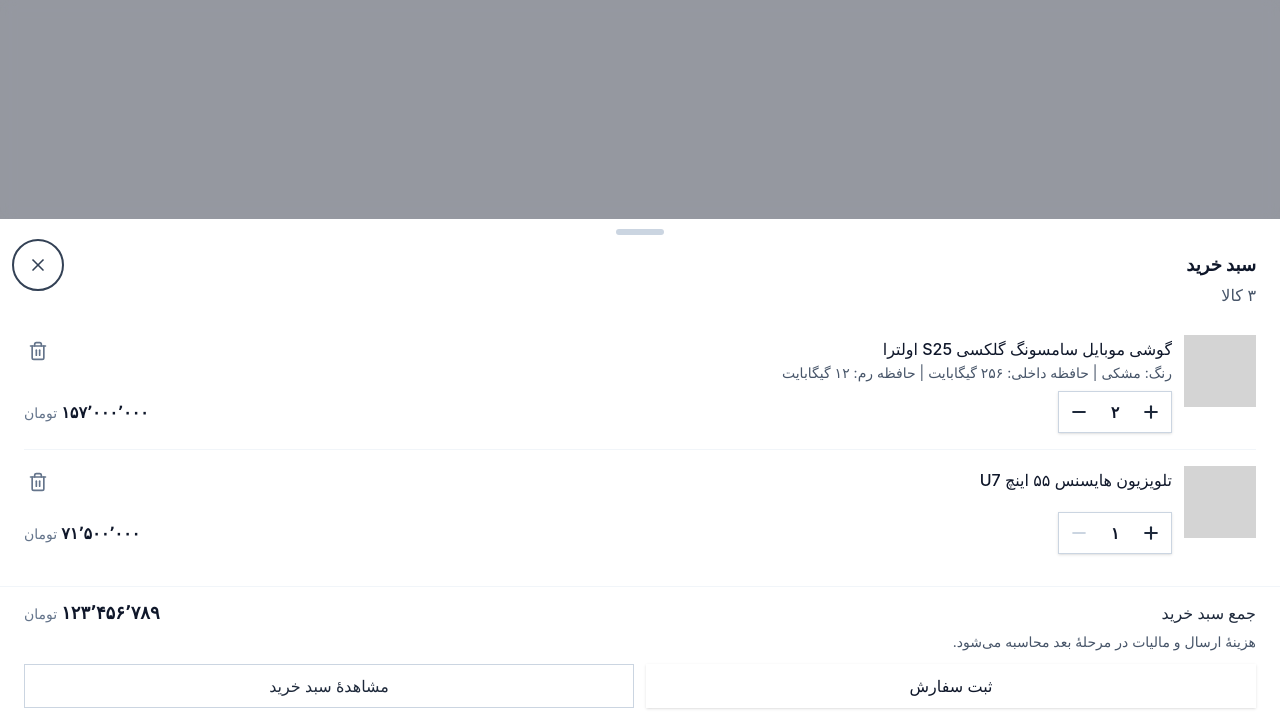
Test: MiniCart › removes a line with one tap and confirms it
Click the button named "حذف از سبد خرید" in the row of "گوشی موبایل سامسونگ گلکسی S25 اولترا".
click(38, 351)  # box left=16, top=329, right=60, bottom=373
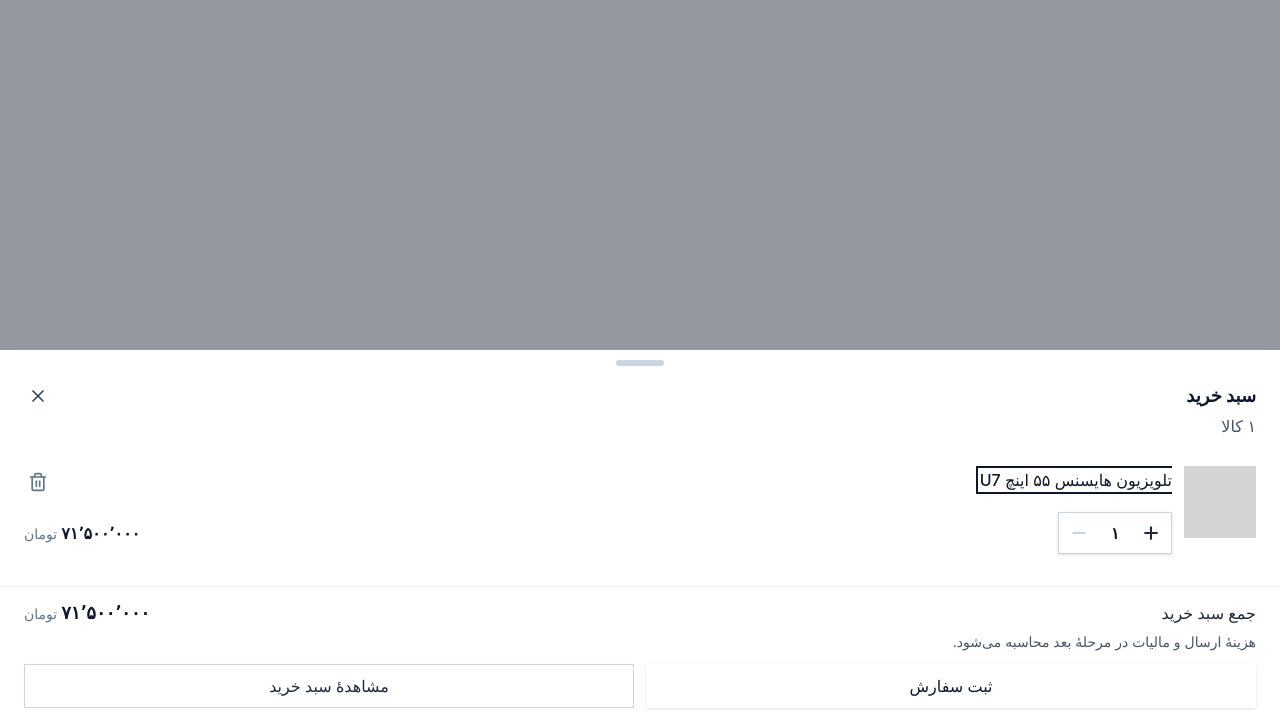
Expected: the number of list items is 1, left=24, top=450, right=1256, bottom=570
